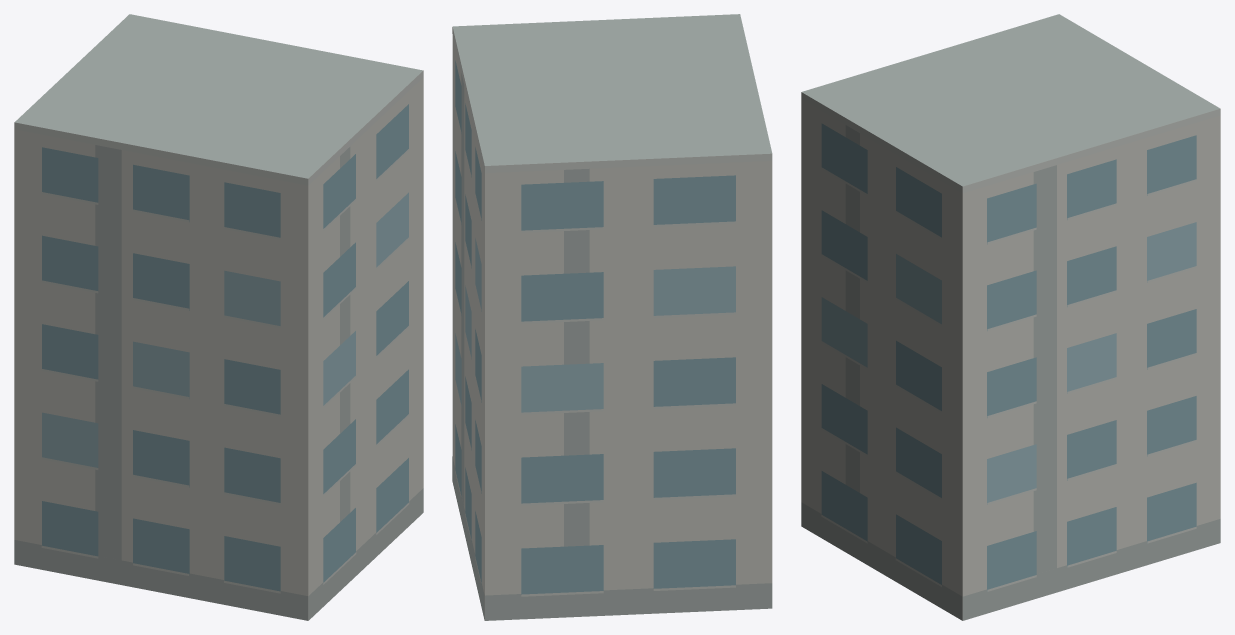
The model's file is survey-upis-32693656.glb.
3 views of the same model, side by side, from view 1: azimuth 30°, elevation 25°; view 2: azimuth 150°, elevation 25°; view 3: azimuth 270°, elevation 25° (orthographic). The views are drawn at different scales.
Parts seen in each view (by area): view 1: survey-upis-32693656.tmp; view 2: survey-upis-32693656.tmp; view 3: survey-upis-32693656.tmp.
Part boxes in pixels (box(x1,y1,x2,y2)): survey-upis-32693656.tmp: box(14, 14, 423, 620); survey-upis-32693656.tmp: box(452, 14, 772, 620); survey-upis-32693656.tmp: box(801, 14, 1220, 620).
Bounding box in the file's own units: 13.05 × 15.3 × 13.4.
